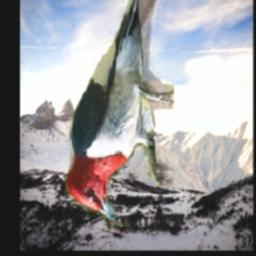Woodpecker: (65, 0, 175, 228)
